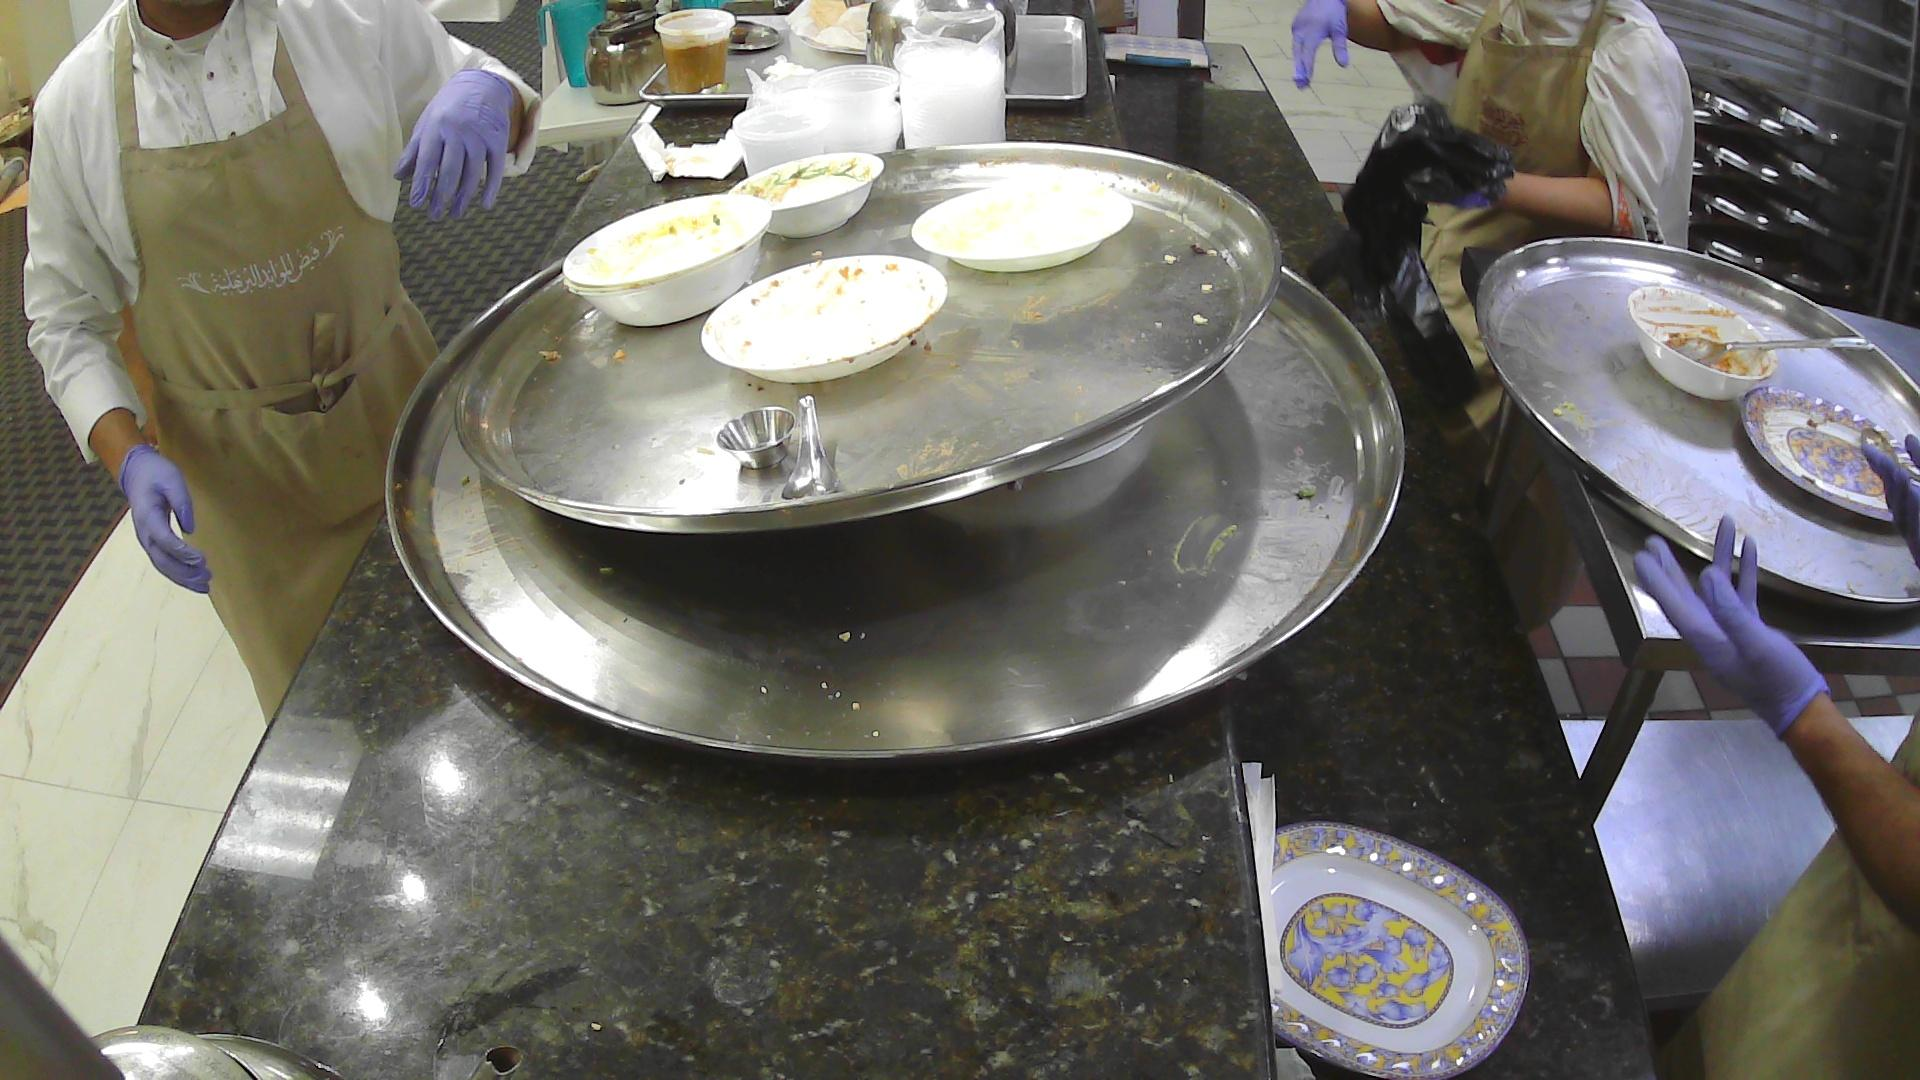thaal: (382, 237, 1412, 775), (452, 141, 1286, 543), (1474, 233, 1920, 626)
